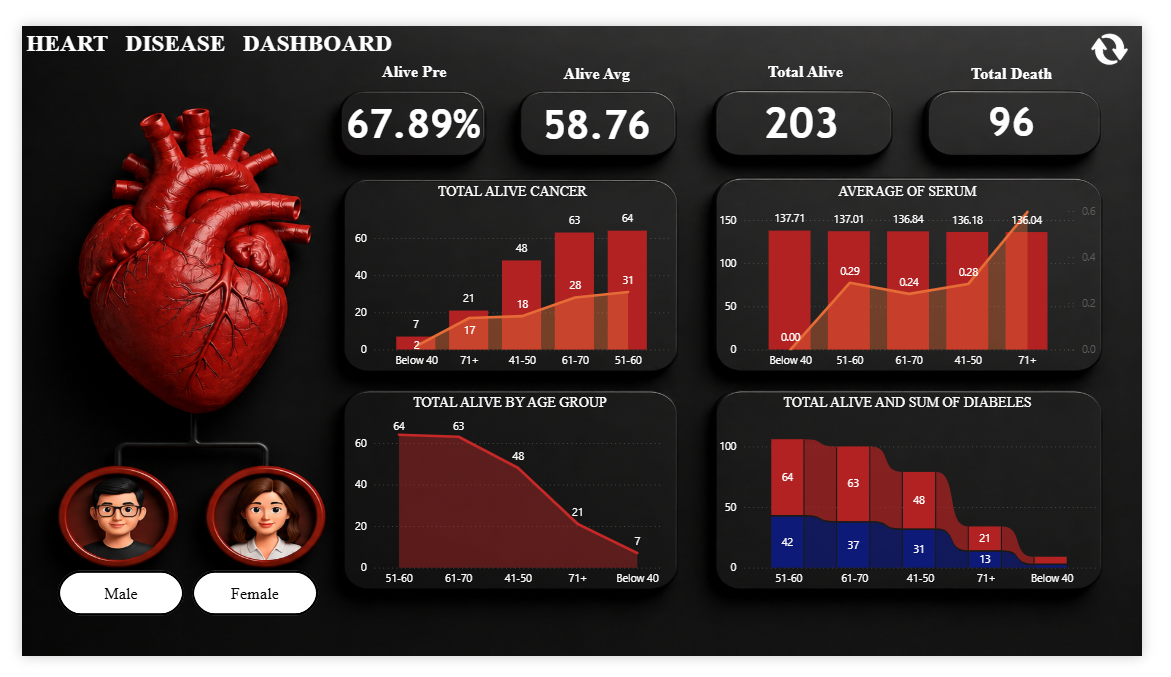

Layout of this report page (visuals, bound fields, positions):
{"tool":"powerbi","page":{"name":"HEART DISEASE DASHBOARD","canvas":[1280,720],"ordinal":0},"visuals":[{"type":"card","fields":{"Values":["Measure.Alive_prc"]},"box":[362.5,66.2,168.8,87.5],"z":0},{"type":"card","fields":{"Values":["Measure.Alive_Age"]},"box":[583.8,77.5,145,66.2],"z":1},{"type":"card","fields":{"Values":["Measure.Total Alive"]},"box":[822.5,66.2,136.2,82.5],"z":2},{"type":"card","fields":{"Values":["Measure.Total Death"]},"box":[1061.2,56.2,138.8,102.5],"z":3},{"type":"textbox","box":[375,37.5,145,36.2],"z":4},{"type":"textbox","box":[583.8,38.8,145,36.2],"z":5},{"type":"textbox","box":[822.5,37.5,145,36.2],"z":6},{"type":"textbox","box":[1058.8,38.8,145,36.2],"z":7},{"type":"lineClusteredColumnComboChart","title":"TOTAL   ALIVE   CANCER","fields":{"Category":["heart_Disease_clinical_records_.Age Group"],"Y":["Measure.Total Alive"],"Y2":["Sum(heart_Disease_clinical_records_.cancer)"]},"box":[375.2,179.8,369.6,220],"z":8},{"type":"lineChart","title":"TOTAL ALIVE BY AGE GROUP","fields":{"Category":["heart_Disease_clinical_records_.Age Group"],"Y":["Measure.Total Alive"]},"box":[375.2,421,364,227.8],"z":9},{"type":"lineClusteredColumnComboChart","title":"AVERAGE OF SERUM","fields":{"Category":["heart_Disease_clinical_records_.Age Group"],"Y":["Avg(heart_Disease_clinical_records_.serum_sodium)"],"Y2":["Avg(heart_Disease_clinical_records_.DEATH_EVENT)"]},"box":[791.7,179.8,441.1,220],"z":10},{"type":"ribbonChart","title":"TOTAL ALIVE AND SUM OF DIABELES","fields":{"Category":["heart_Disease_clinical_records_.Age Group"],"Y":["Sum(heart_Disease_clinical_records_.diabetes)","Measure.Total Alive"]},"box":[791.7,421,441.1,227.8],"z":11},{"type":"textbox","box":[0,0,520.3,46.9],"z":12},{"type":"advancedSlicerVisual","fields":{"Values":["heart_Disease_clinical_records_.Gendar"]},"box":[35.7,617.5,309.3,62.5],"z":13},{"type":"image","box":[1216,5.6,54.7,41.3],"z":14}]}

Visuals, with their boxes in screenshot pixels (x1, y1, x2, y2), scaled from the page's 1280x720 canvas onto the 1171x677 screenshot:
card - Measure.Alive_prc: bbox(332, 62, 486, 145)
card - Measure.Alive_Age: bbox(534, 73, 667, 135)
card - Measure.Total Alive: bbox(752, 62, 877, 140)
card - Measure.Total Death: bbox(971, 53, 1098, 149)
textbox: bbox(343, 35, 476, 69)
textbox: bbox(534, 36, 667, 71)
textbox: bbox(752, 35, 885, 69)
textbox: bbox(969, 36, 1101, 71)
"TOTAL   ALIVE   CANCER" lineClusteredColumnComboChart: bbox(343, 169, 681, 376)
"TOTAL ALIVE BY AGE GROUP" lineChart: bbox(343, 396, 676, 610)
"AVERAGE OF SERUM" lineClusteredColumnComboChart: bbox(724, 169, 1128, 376)
"TOTAL ALIVE AND SUM OF DIABELES" ribbonChart: bbox(724, 396, 1128, 610)
textbox: bbox(0, 0, 476, 44)
advancedSlicerVisual - heart_Disease_clinical_records_.Gendar: bbox(33, 581, 316, 639)
image: bbox(1112, 5, 1162, 44)
